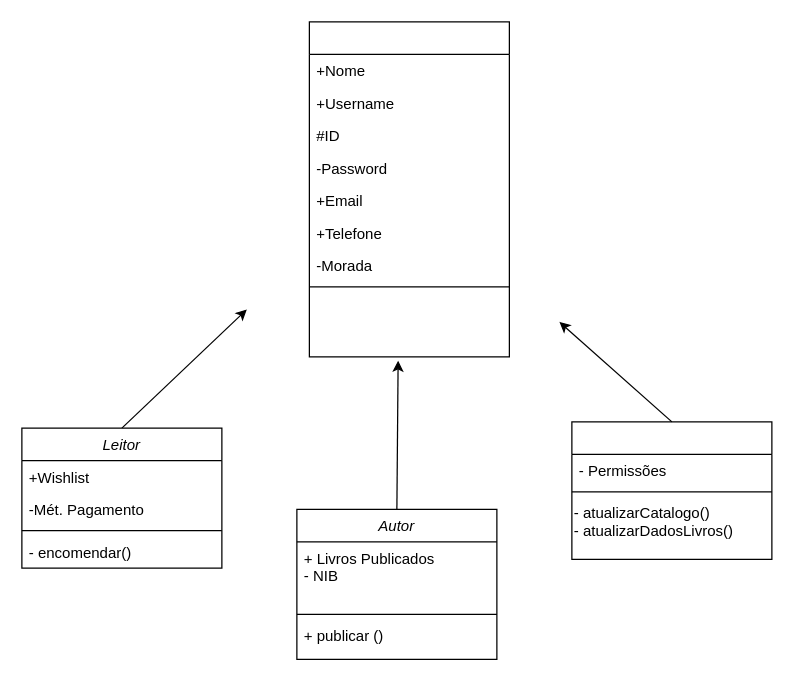
This 794x685 diagram has some shape labels left out. The box of each missing label's shape, as (x1, y1, x2, y2) in pixels:
Admin: (571, 421, 772, 559)
Utilizador: (308, 21, 509, 357)
